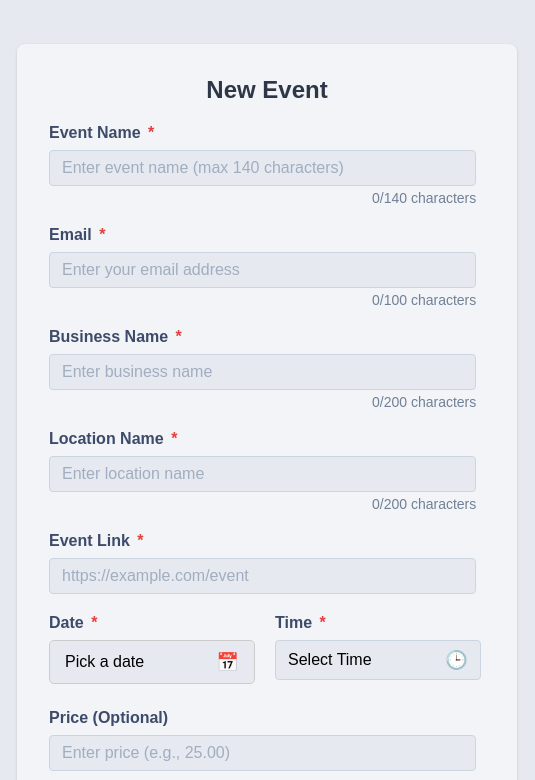
Test: Validation: field-level rules › rejects an invalid email format
Type "not-an-email" into the field labelled "Email *". click: (263, 270)
box: [49, 252, 476, 288]
(page scrolled)
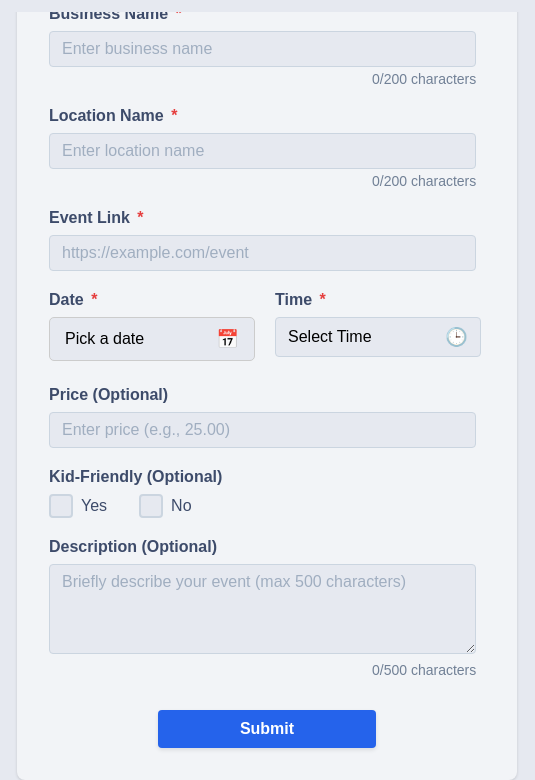
Click the button "Submit". click: (267, 729)
box: [158, 710, 376, 748]
(page scrolled)
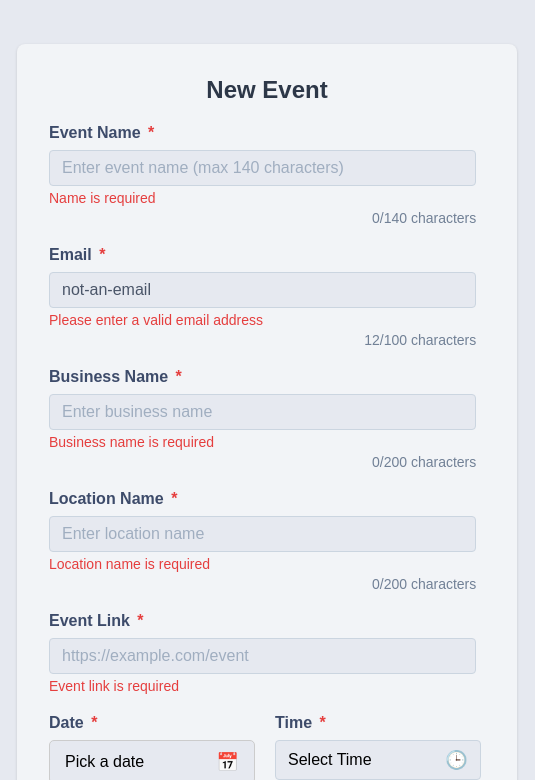
Expected: the text "Please enter a valid email address" is shown, [49, 312, 263, 328]
